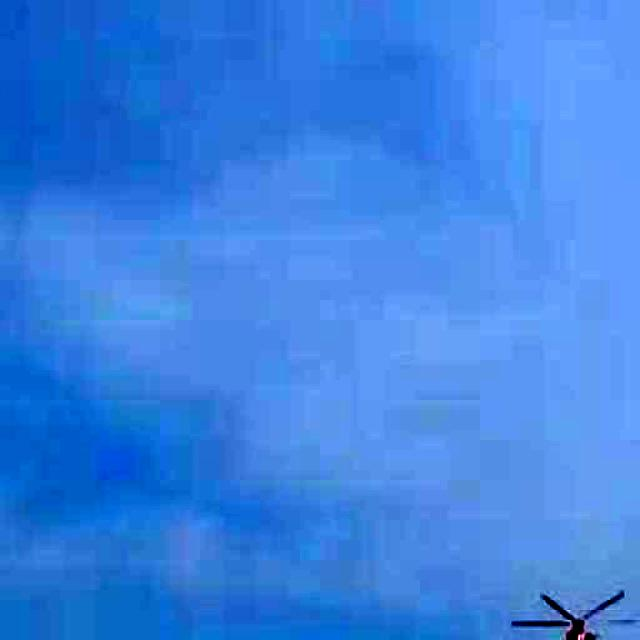drone: (509, 582, 635, 640)
